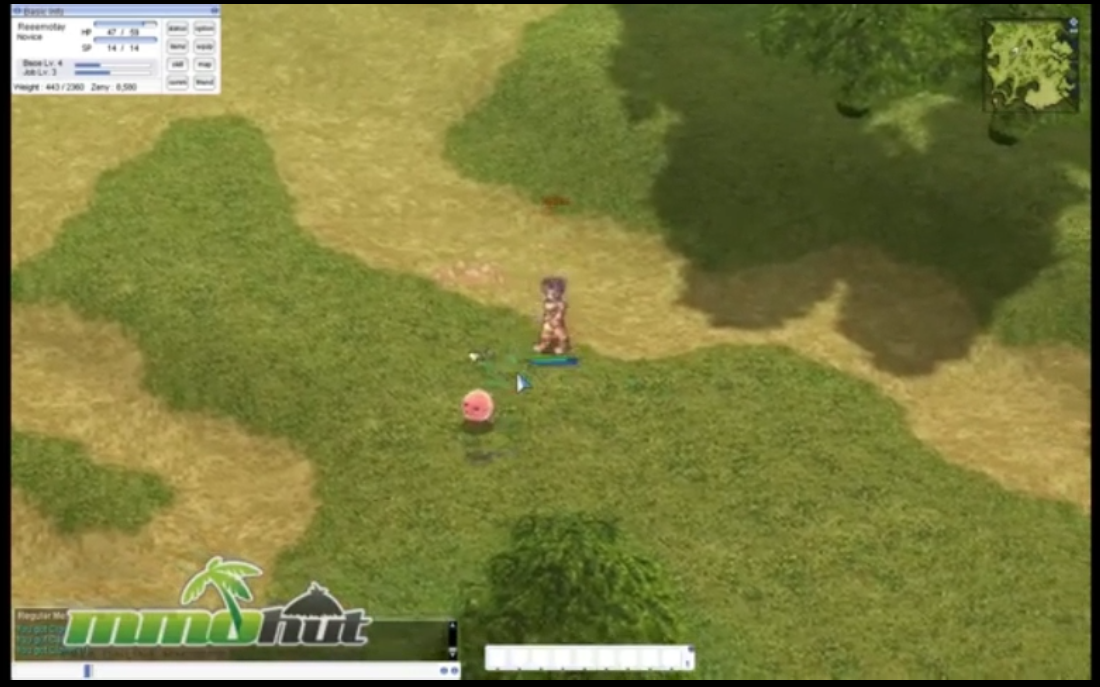porling: (462, 381, 494, 422)
